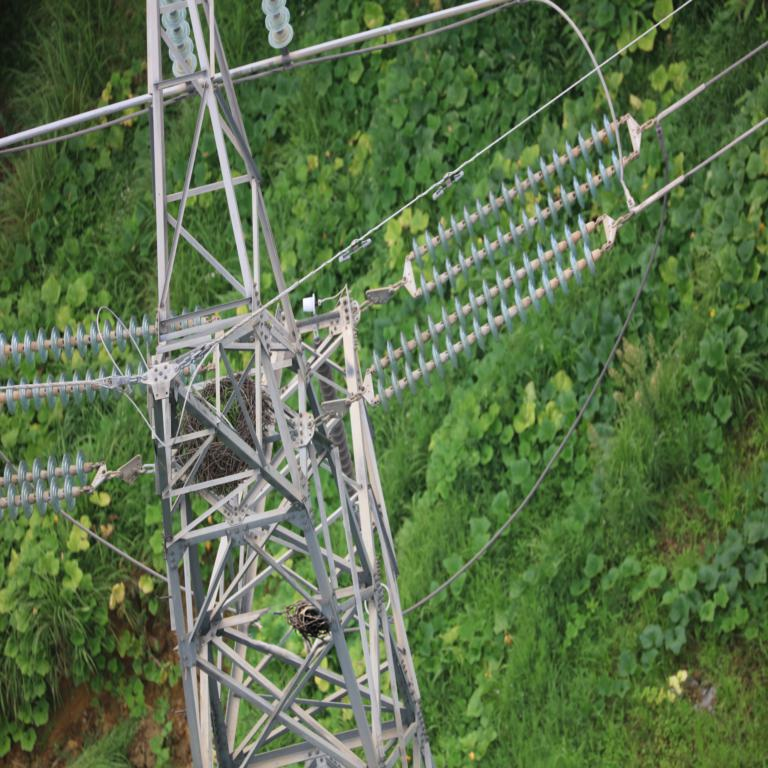nest: (184, 382, 261, 481), (288, 600, 336, 642)
